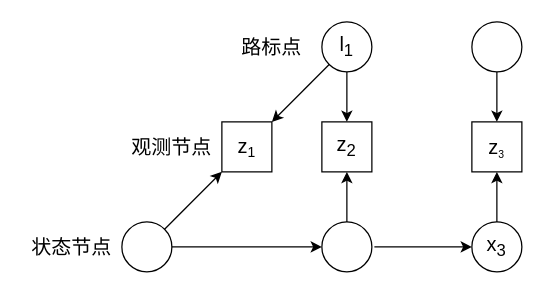
Some shapes in this 544 by 294 pixel diagram are drawn without their labels. Here are the shapes that lost their labels. From the top down, the box of each, then its label:
(471, 21, 522, 72): l 2
(121, 221, 172, 272): x 1
(321, 221, 372, 272): x 2
